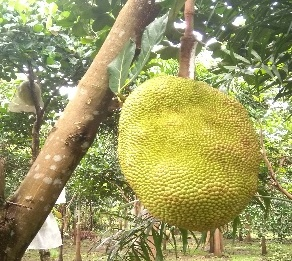Mit: (118, 75, 261, 232)
